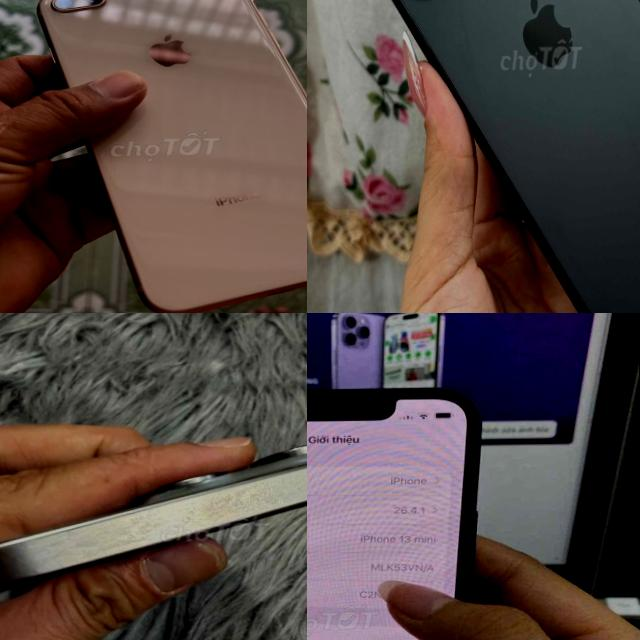gen_12_13: (307, 382, 488, 640)
gen_15: (0, 432, 307, 617)
gen_16: (337, 0, 640, 313)
gen_7_8: (30, 0, 307, 313)
